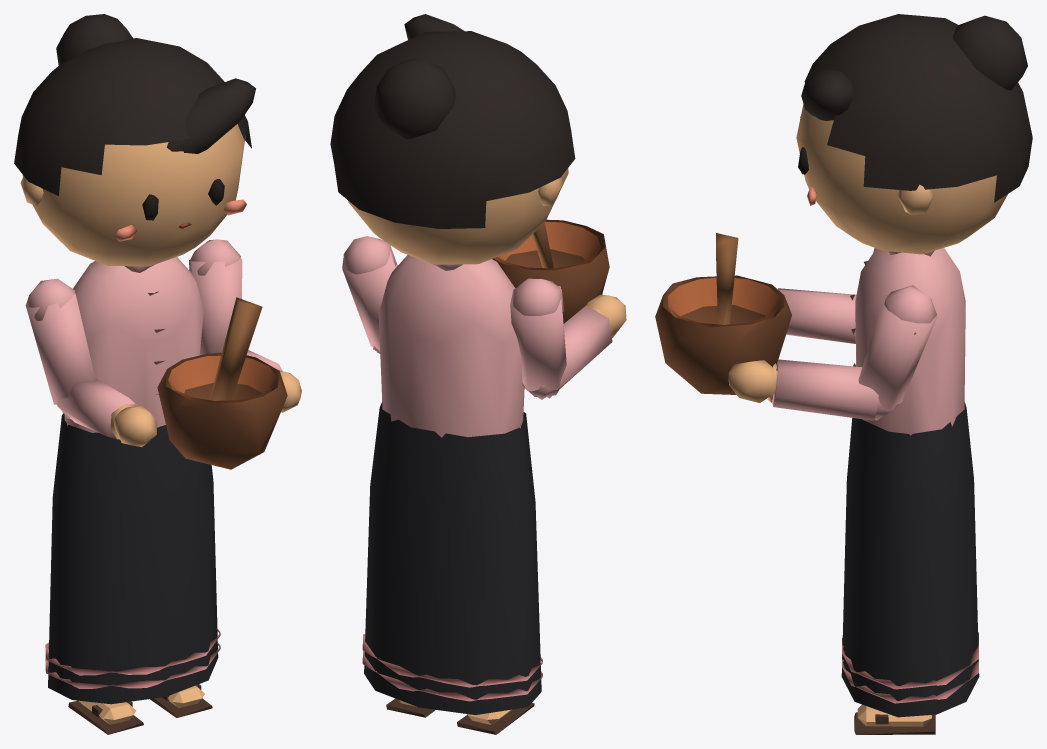
File: isan_papaya_salad.glb
3 renders of one model, left to right at view 1: azimuth 30°, elevation 25°; view 2: azimuth 150°, elevation 25°; view 3: azimuth 270°, elevation 25°, orthographic. The views are drawn at different scales.
Visible parts, largest first — view 1: body, head, prop_mortar, arm_R, arm_L, forearm_R, shin_R, shin_L, forearm_L; view 2: body, head, prop_mortar, arm_R, arm_L, forearm_R, shin_R; view 3: body, head, prop_mortar, forearm_L, arm_L, forearm_R, shin_L.
Boxes of the visible parts, box(x1,y1,x2,y2) form: body: box(45, 257, 220, 704); head: box(14, 14, 255, 266); prop_mortar: box(157, 297, 287, 469); arm_R: box(25, 278, 95, 404); arm_L: box(189, 239, 242, 355); forearm_R: box(57, 378, 156, 446); shin_R: box(68, 700, 143, 734); shin_L: box(150, 684, 212, 717); forearm_L: box(216, 345, 301, 412); body: box(362, 255, 542, 714); head: box(330, 14, 575, 264); prop_mortar: box(492, 219, 609, 323); arm_R: box(510, 278, 566, 399); arm_L: box(342, 236, 397, 352); forearm_R: box(522, 294, 626, 398); shin_R: box(457, 703, 534, 734); body: box(841, 248, 979, 717); head: box(796, 14, 1032, 254); prop_mortar: box(655, 233, 791, 394); forearm_L: box(728, 359, 897, 420); arm_L: box(858, 285, 937, 420); forearm_R: box(778, 288, 856, 343); shin_L: box(854, 704, 935, 734).
Size of the model in its own units: 0.4966 by 1.47 by 0.7295.
